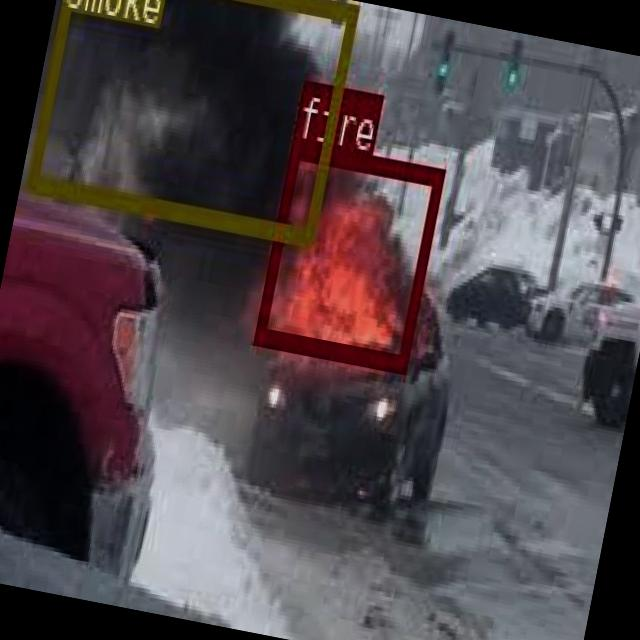fire: (252, 138, 443, 368)
smoke: (26, 0, 359, 243)
